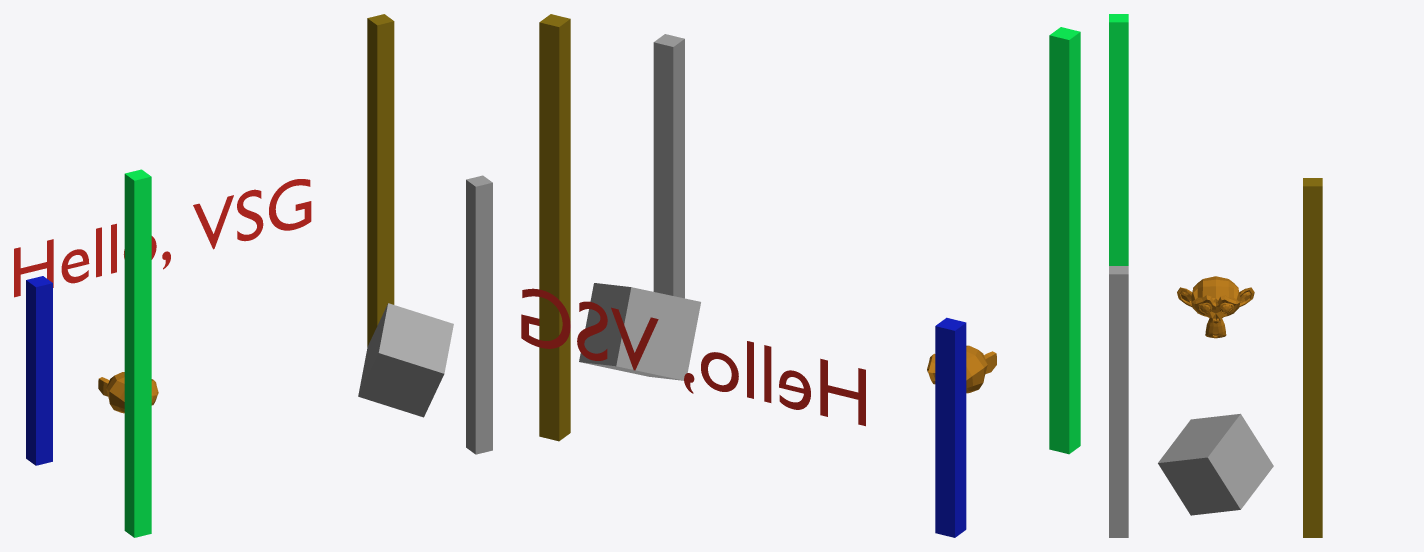
File: world.glb
The picture shows the model from 3 angles, left to right: view 1: azimuth 30°, elevation 25°; view 2: azimuth 150°, elevation 25°; view 3: azimuth 270°, elevation 25°; orthographic projection. The views are drawn at different scales.
Visible parts, largest first — view 1: Cube, Cube.001, Cube.004, Cube.003, Cube.002, Text, Suzanne; view 2: Cube, Cube.001, Cube.003, Cube.004, Cube.002, Text, Suzanne; view 3: Cube.004, Cube.001, Cube.003, Cube, Suzanne.
Boxes of the visible parts, <box> form: Cube: <box>124,169,151,537</box>; Cube.001: <box>367,14,394,346</box>; Cube.004: <box>358,303,453,417</box>; Cube.003: <box>466,175,492,454</box>; Cube.002: <box>26,276,52,465</box>; Text: <box>14,179,311,297</box>; Suzanne: <box>98,372,158,413</box>; Cube: <box>1049,27,1080,454</box>; Cube.001: <box>539,14,570,441</box>; Cube.003: <box>653,34,684,298</box>; Cube.004: <box>579,283,700,380</box>; Cube.002: <box>935,317,966,537</box>; Text: <box>521,288,865,426</box>; Suzanne: <box>927,345,996,393</box>; Cube.004: <box>1158,413,1273,515</box>; Cube.001: <box>1303,178,1322,537</box>; Cube.003: <box>1109,266,1128,537</box>; Cube: <box>1109,14,1128,265</box>; Suzanne: <box>1177,276,1254,338</box>.
Size of what is drawn, in the model's own units: 4.33 by 4 by 3.1.
